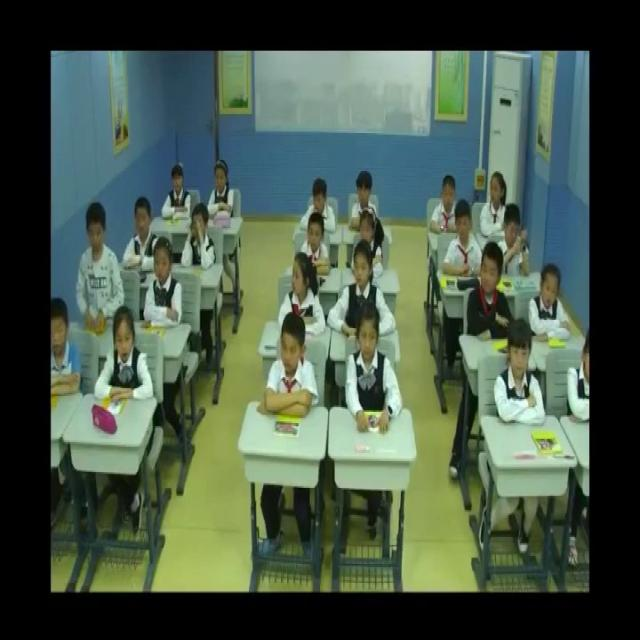distracted: (182, 202, 217, 270)
focused: (348, 305, 403, 439), (76, 200, 126, 334), (329, 242, 397, 340), (264, 312, 318, 426), (95, 307, 154, 407), (144, 235, 183, 332), (49, 298, 83, 397), (122, 196, 163, 275), (302, 208, 333, 280), (160, 163, 192, 228), (210, 159, 234, 220)
